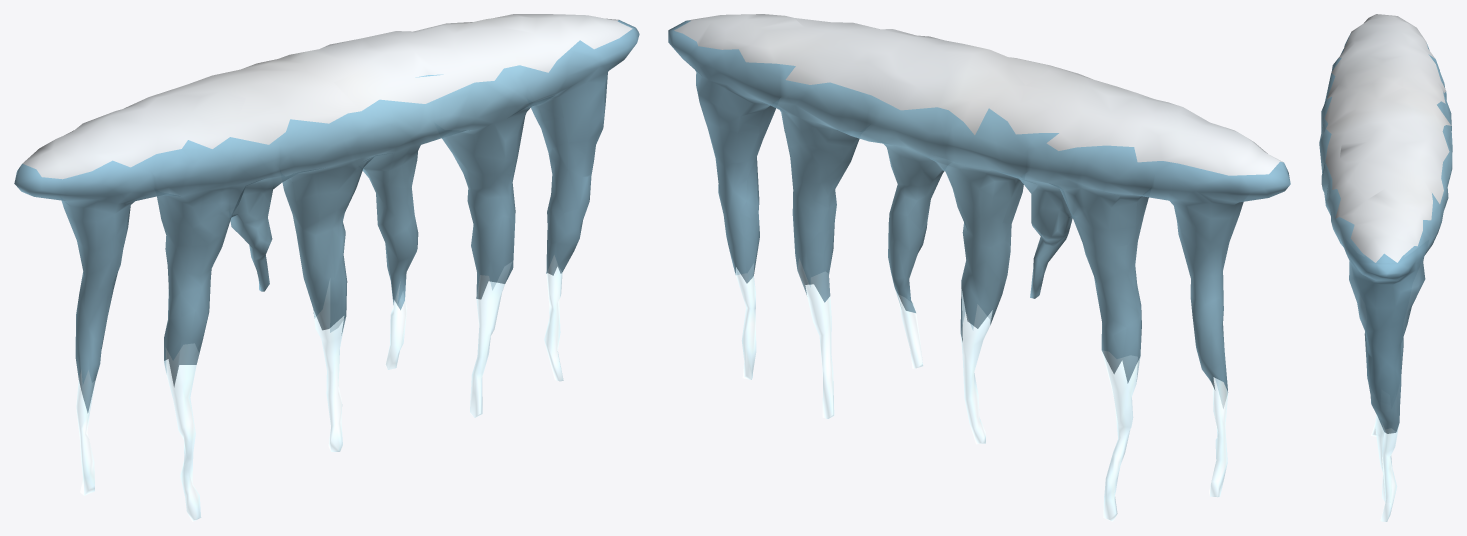
The model's file is frost_icicle_cluster_lod1.glb.
The picture shows the model from 3 angles, left to right: view 1: azimuth 30°, elevation 25°; view 2: azimuth 150°, elevation 25°; view 3: azimuth 270°, elevation 25°; orthographic projection. The views are drawn at different scales.
Visible parts, largest first — view 1: frost_icicle_cluster.001; view 2: frost_icicle_cluster.001; view 3: frost_icicle_cluster.001.
Boxes of the visible parts, bbox=[...] form: frost_icicle_cluster.001: bbox=[14, 14, 639, 521]; frost_icicle_cluster.001: bbox=[668, 14, 1290, 521]; frost_icicle_cluster.001: bbox=[1319, 14, 1452, 521].
Bounding box in the file's own units: 12.14 × 8.01 × 2.67.
